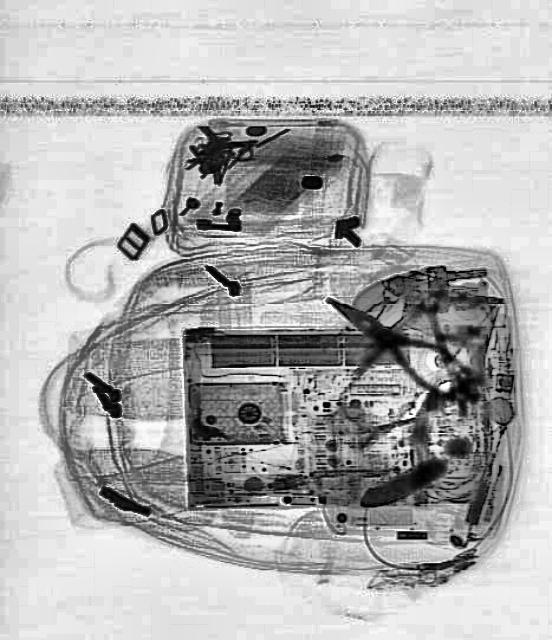Pliers: (316, 278, 474, 406)
